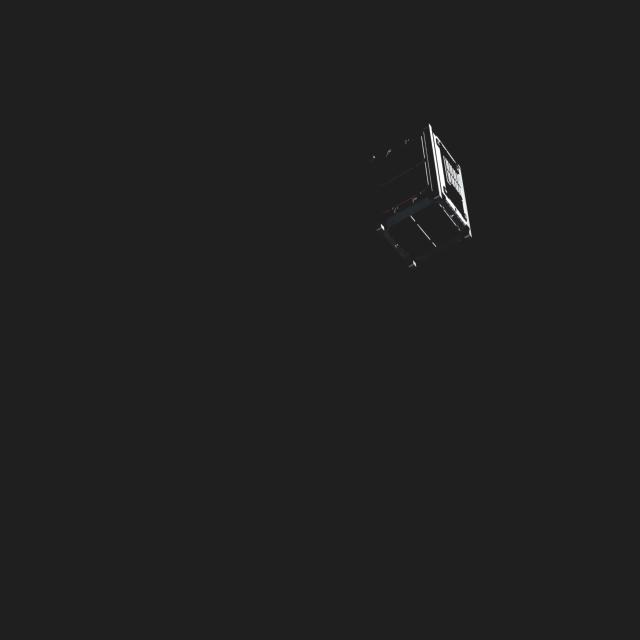medium_debris: (359, 120, 471, 270)
